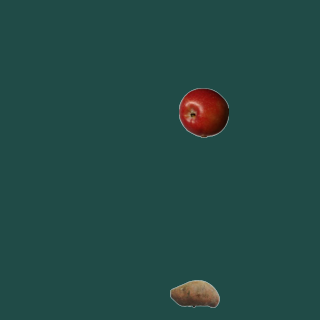Apple Braeburn: (178, 87, 228, 137)
Potato Sweet: (169, 268, 219, 318)
